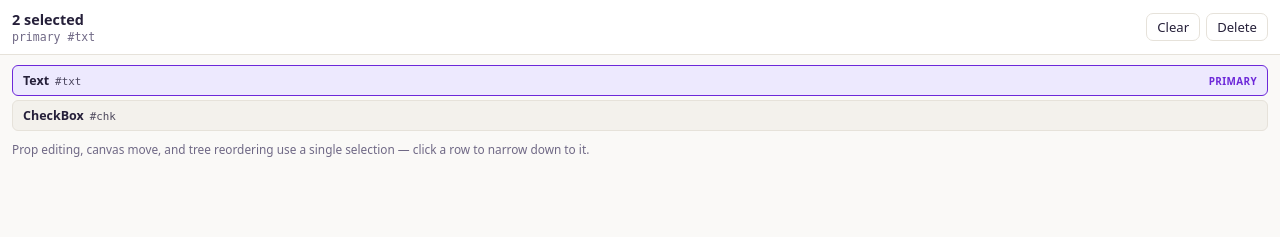
Inspector multi-selection state (contract §4f) › clicking a row collapses the selection to that id (honing)
The image size is (1280, 237).
Click the button with test id "inspector-multi-row-chk" at (53,116), box [12,100,1268,131]
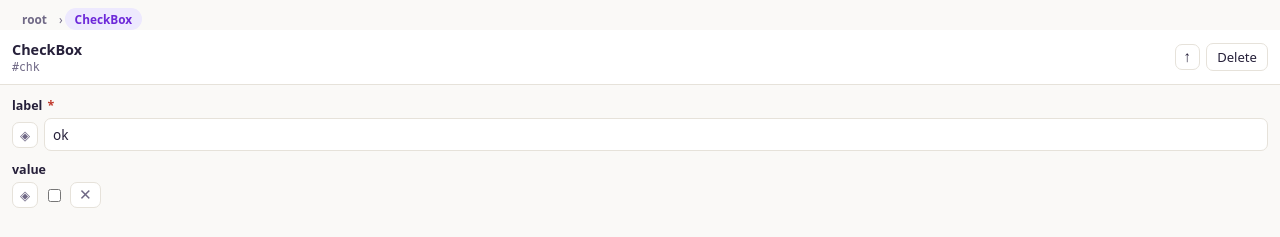
Now the element with test id "inspector-multi" is gone
